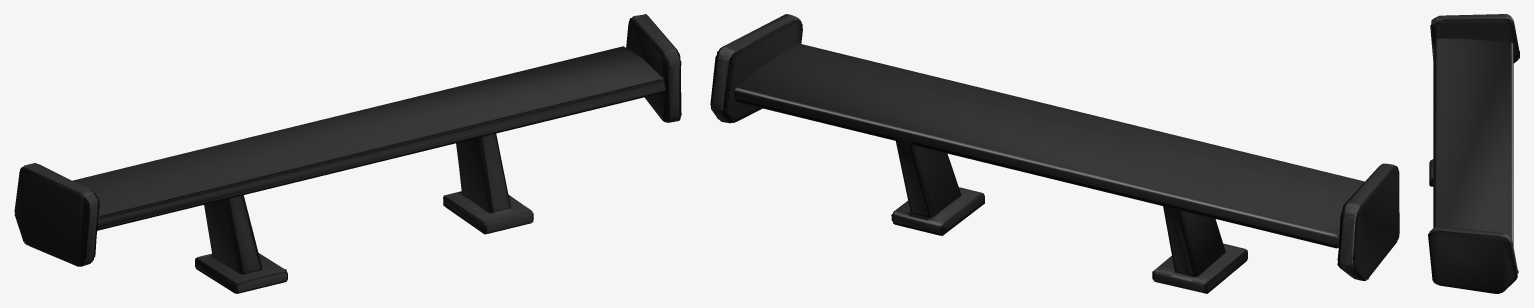
The model's file is kaeferkraft-rear_spoiler.glb.
3 renders of one model, left to right at view 1: azimuth 30°, elevation 25°; view 2: azimuth 150°, elevation 25°; view 3: azimuth 270°, elevation 25°, orthographic. The views are drawn at different scales.
Parts seen in each view (by area): view 1: tripo_node_855903af-1907-4062-aad1-a16a98bb50b4; view 2: tripo_node_855903af-1907-4062-aad1-a16a98bb50b4; view 3: tripo_node_855903af-1907-4062-aad1-a16a98bb50b4.
Part boxes in pixels (box(x1,y1,x2,y2)): tripo_node_855903af-1907-4062-aad1-a16a98bb50b4: box(14, 14, 681, 293); tripo_node_855903af-1907-4062-aad1-a16a98bb50b4: box(710, 14, 1399, 293); tripo_node_855903af-1907-4062-aad1-a16a98bb50b4: box(1428, 14, 1519, 293).
Bounding box in the file's own units: 1.05 × 0.224 × 0.1788.
1 material, 1 textured.
